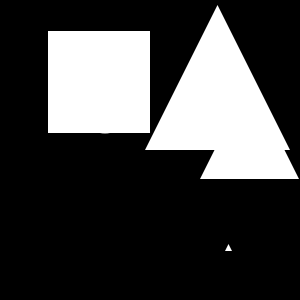circle: (48, 31, 150, 133)
rectangle: (79, 82, 130, 134)
triangle: (145, 5, 290, 150), (200, 80, 299, 179), (225, 244, 232, 251)
